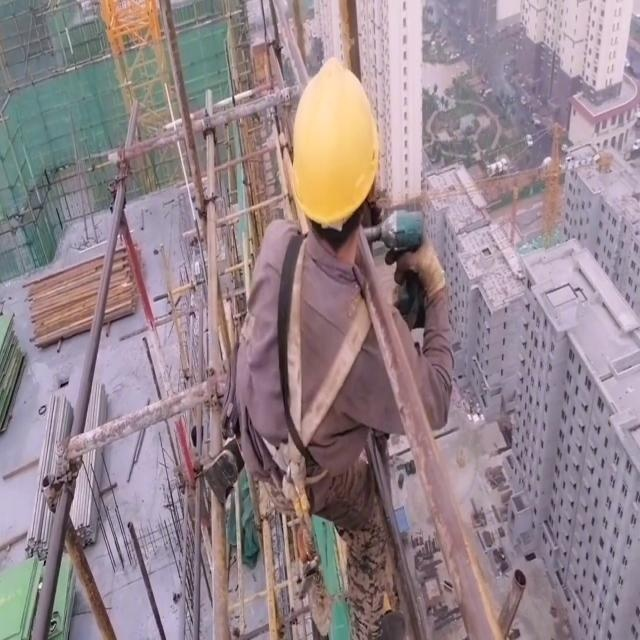Arnes_seguridad: (250, 229, 380, 519)
